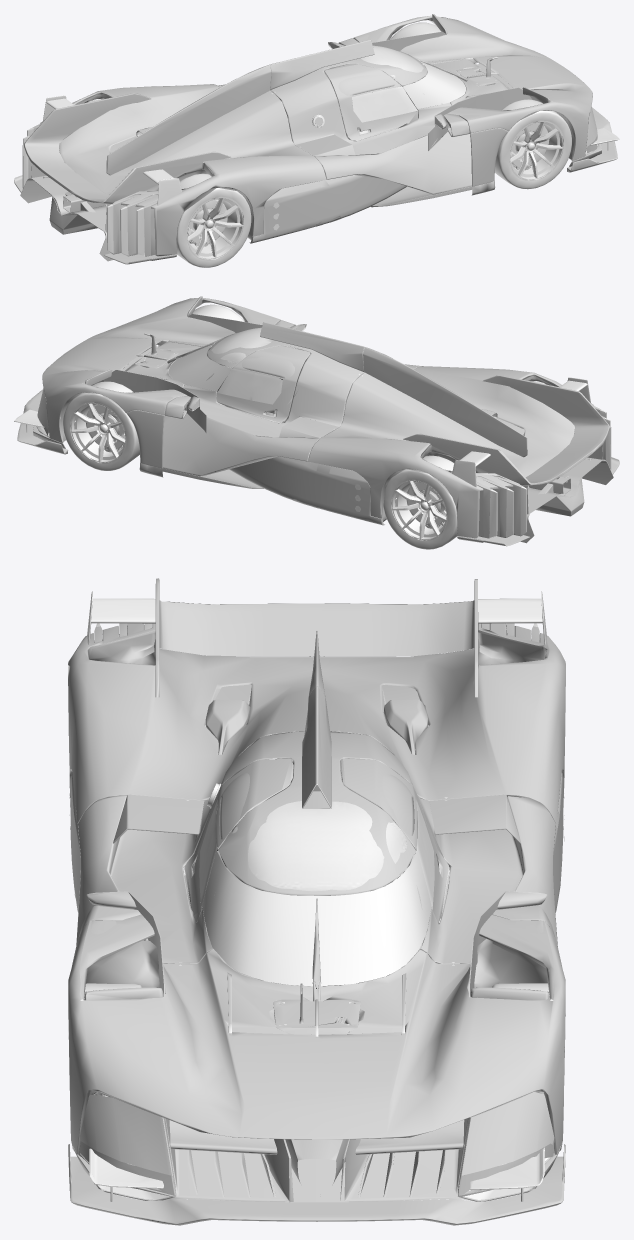
File: jogo-peugeot-cabine.glb
3 renders of one model, top to bottom at view 1: azimuth 30°, elevation 25°; view 2: azimuth 150°, elevation 25°; view 3: azimuth 270°, elevation 25°, orthographic. The views are drawn at different scales.
Parts seen in each view (by area): view 1: c, vidro, rodaFE_pneu, rodaTE_pneu, rodaTE_aro, rodaFE_aro, luz, carb, int, metal, rodaFD_pneu, escuro; view 2: c, vidro, rodaFD_pneu, rodaTD_pneu, rodaTD_aro, rodaFD_aro, carb, luz, int, metal, rodaFE_pneu; view 3: c, vidro, int, farol, carb, f.
Part boxes in pixels (x1,y1,x2,y2): c: (14, 14, 617, 264); vidro: (352, 53, 465, 122); rodaFE_pneu: (495, 99, 571, 189); rodaTE_pneu: (177, 173, 251, 267); rodaTE_aro: (187, 198, 243, 258); rodaFE_aro: (510, 121, 563, 179); luz: (22, 126, 144, 256); carb: (43, 58, 617, 205); int: (335, 45, 442, 136); metal: (188, 42, 549, 243); rodaFD_pneu: (390, 22, 440, 39); escuro: (43, 57, 608, 253); c: (17, 296, 619, 546); vidro: (168, 332, 282, 404); rodaFD_pneu: (63, 381, 139, 470); rodaTD_pneu: (383, 455, 457, 549); rodaTD_aro: (392, 480, 446, 539); rodaFD_aro: (71, 403, 125, 462); carb: (15, 340, 591, 487); luz: (489, 408, 611, 537); int: (206, 327, 296, 396); metal: (86, 324, 445, 524); rodaFE_pneu: (193, 304, 244, 321); c: (68, 578, 565, 1225); vidro: (199, 799, 434, 986); int: (214, 758, 422, 909); farol: (79, 1092, 554, 1190); carb: (80, 591, 553, 1199); f: (89, 784, 544, 1190).
Bounding box in the file's own units: 5 × 1.18 × 2.04.
24 materials, 8 textured.
